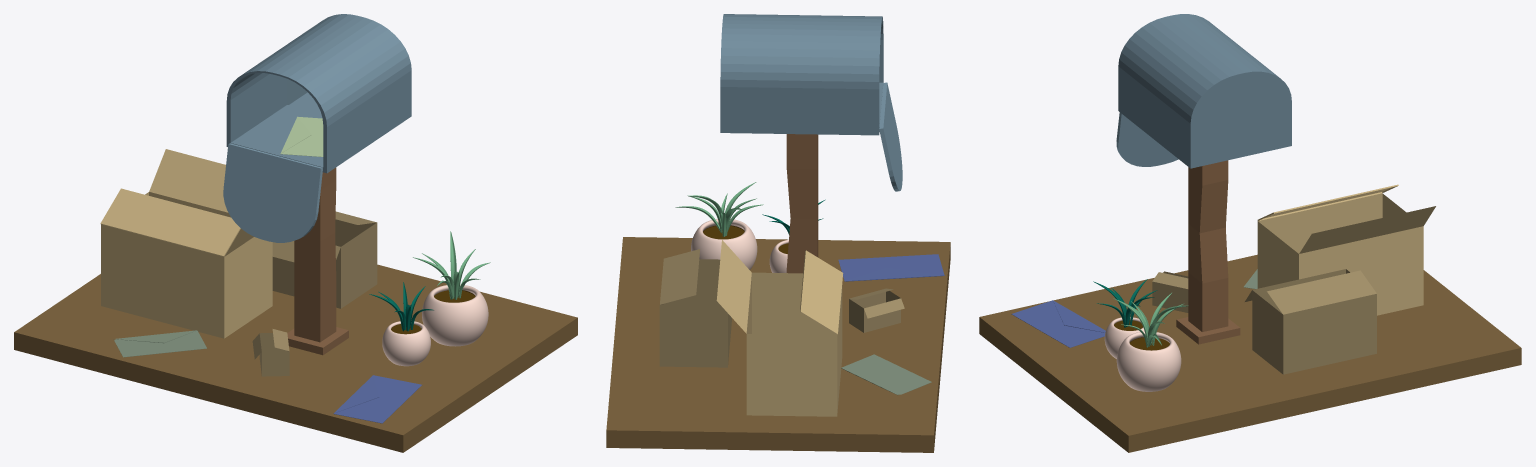
The model's file is MailRoomv2.glb.
The picture shows the model from 3 angles, left to right: view 1: azimuth 30°, elevation 25°; view 2: azimuth 150°, elevation 25°; view 3: azimuth 270°, elevation 25°; orthographic projection. The views are drawn at different scales.
Visible parts, largest first — view 1: floor2, MailBox, box1, box2, plant1, plant2, mail2, mail1, box3, mail3; view 2: floor2, MailBox, box1, box2, plant1, mail2, box3, mail1, plant2; view 3: floor2, MailBox, box1, box2, plant1, mail2, plant2, box3.
Part boxes in pixels (<box>): floor2: <box>14,264,577,452</box>; MailBox: <box>223,14,411,355</box>; box1: <box>100,149,272,338</box>; box2: <box>272,211,377,308</box>; plant1: <box>413,231,490,346</box>; plant2: <box>369,282,433,366</box>; mail2: <box>333,375,421,423</box>; mail1: <box>113,330,206,357</box>; box3: <box>252,329,289,376</box>; mail3: <box>280,116,323,156</box>; floor2: <box>606,237,950,452</box>; MailBox: <box>720,14,902,273</box>; box1: <box>716,240,843,416</box>; box2: <box>659,249,731,367</box>; plant1: <box>675,182,763,269</box>; mail2: <box>838,254,944,281</box>; box3: <box>849,288,904,332</box>; mail1: <box>841,354,931,395</box>; plant2: <box>762,199,825,272</box>; floor2: <box>979,254,1521,452</box>; MailBox: <box>1116,14,1291,344</box>; box1: <box>1257,184,1435,315</box>; box2: <box>1245,269,1376,374</box>; plant1: <box>1113,293,1188,391</box>; mail2: <box>1011,300,1105,347</box>; plant2: <box>1093,279,1157,358</box>; box3: <box>1152,271,1188,312</box>.
Bounding box in the file's own units: 5.91 × 4.06 × 6.55.
